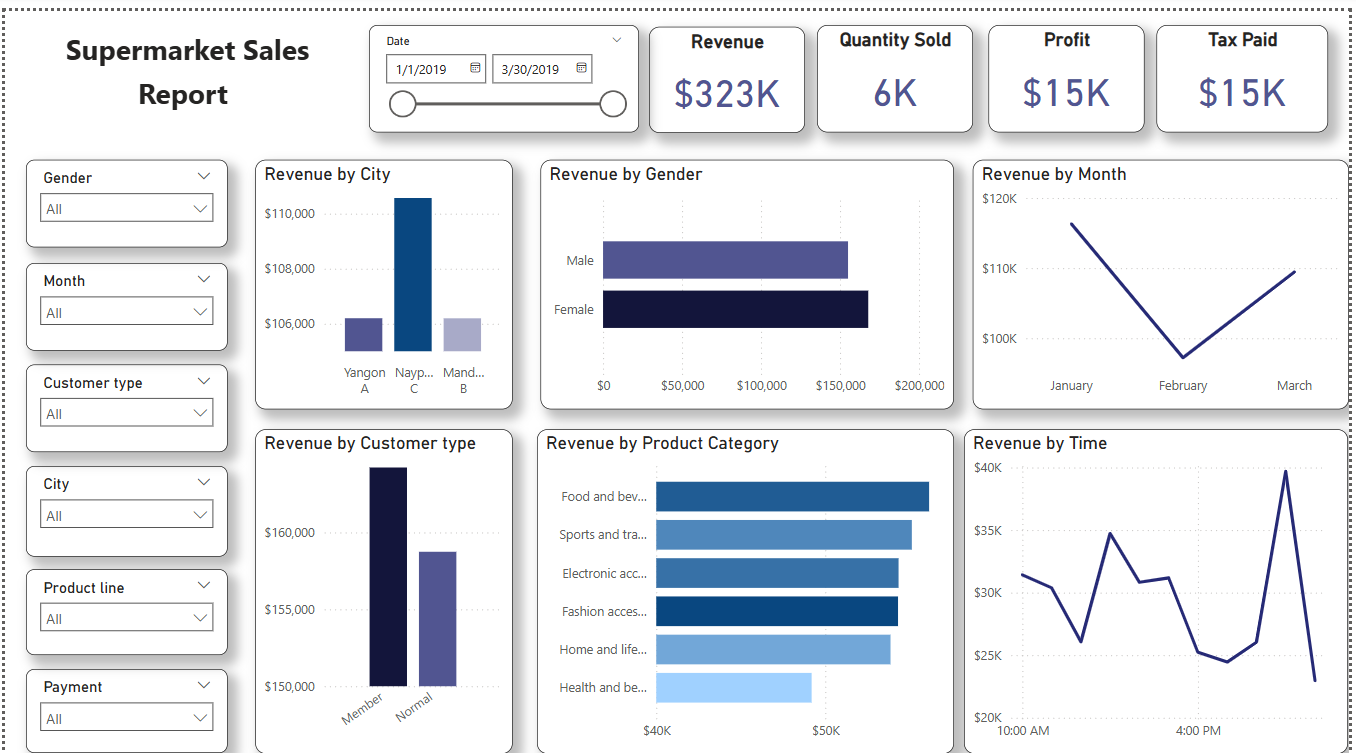

Layout of this report page (visuals, bound fields, positions):
{"tool":"powerbi","page":{"name":"Revenue","canvas":[1280,720],"ordinal":0},"visuals":[{"type":"clusteredBarChart","title":"Revenue by Gender","fields":{"Category":["supermarket_sales - Sheet1.Gender"],"Y":["Sum(supermarket_sales - Sheet1.Total)"]},"box":[10.4,0,393.6,225.8],"z":0},{"type":"columnChart","title":"Revenue by City ","fields":{"Category":["supermarket_sales - Sheet1.Branch","supermarket_sales - Sheet1.City"],"Y":["Sum(supermarket_sales - Sheet1.Total)"]},"box":[17.8,359.5,393.6,210.9],"z":1000},{"type":"lineChart","fields":{"Category":["supermarket_sales - Sheet1.Date.Variation.Date Hierarchy.Year","supermarket_sales - Sheet1.Date.Variation.Date Hierarchy.Quarter","supermarket_sales - Sheet1.Date.Variation.Date Hierarchy.Month","supermarket_sales - Sheet1.Date.Variation.Date Hierarchy.Day"],"Y":["Sum(supermarket_sales - Sheet1.Total)"]},"box":[473.9,0,481.3,252.5],"z":2000},{"type":"clusteredColumnChart","title":"Revenue by Customer type","fields":{"Y":["Sum(supermarket_sales - Sheet1.Total)"],"Category":["supermarket_sales - Sheet1.Customer type"]},"box":[23.8,506.5,380.3,213.9],"z":3000},{"type":"card","fields":{"Values":["Sum(supermarket_sales - Sheet1.Total)"]},"box":[955.1,77.2,325.3,148.5],"z":4000},{"type":"clusteredBarChart","title":"Revenue by Product Category","fields":{"Category":["supermarket_sales - Sheet1.Product line"],"Y":["Sum(supermarket_sales - Sheet1.Total)"]},"box":[404,291.1,424.8,415.9],"z":5000},{"type":"slicer","fields":{"Values":["supermarket_sales - Sheet1.Payment"]},"box":[967,0,303,65.4],"z":6000},{"type":"lineChart","fields":{"Y":["Sum(supermarket_sales - Sheet1.Total)"],"Category":["supermarket_sales - Sheet1.Time "]},"box":[849.7,291.1,430.8,415.9],"z":7000}]}

Visuals, with their boxes in screenshot pixels (x1, y1, x2, y2), scaled from the page's 1280x720 canvas onto the 1356x753 screenshot:
"Revenue by Gender" clusteredBarChart: 11:0:428:236
"Revenue by City " columnChart: 19:376:436:597
lineChart - supermarket_sales - Sheet1.Date.Variation.Date Hierarchy.Year x supermarket_sales - Sheet1.Date.Variation.Date Hierarchy.Quarter: 502:0:1012:264
"Revenue by Customer type" clusteredColumnChart: 25:530:428:752
card - Sum(supermarket_sales - Sheet1.Total): 1012:81:1355:236
"Revenue by Product Category" clusteredBarChart: 428:304:878:739
slicer - supermarket_sales - Sheet1.Payment: 1024:0:1345:68
lineChart - Sum(supermarket_sales - Sheet1.Total) x supermarket_sales - Sheet1.Time : 900:304:1355:739
